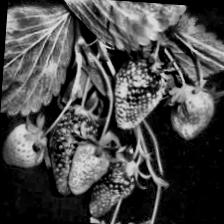Powdery Mildew Fruit: (43, 107, 99, 198), (110, 52, 170, 132), (86, 149, 139, 220), (66, 139, 110, 197)
